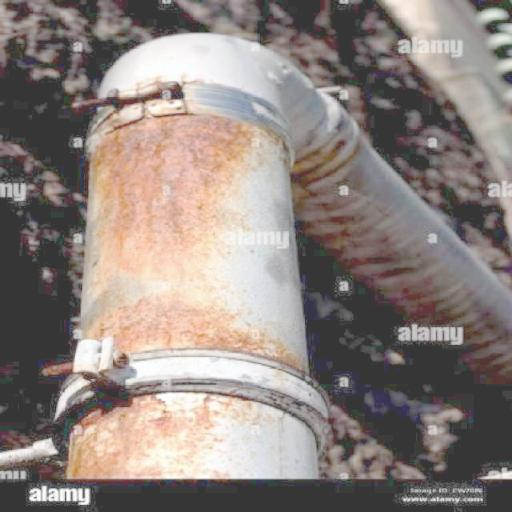corrosion: (84, 120, 290, 356)
